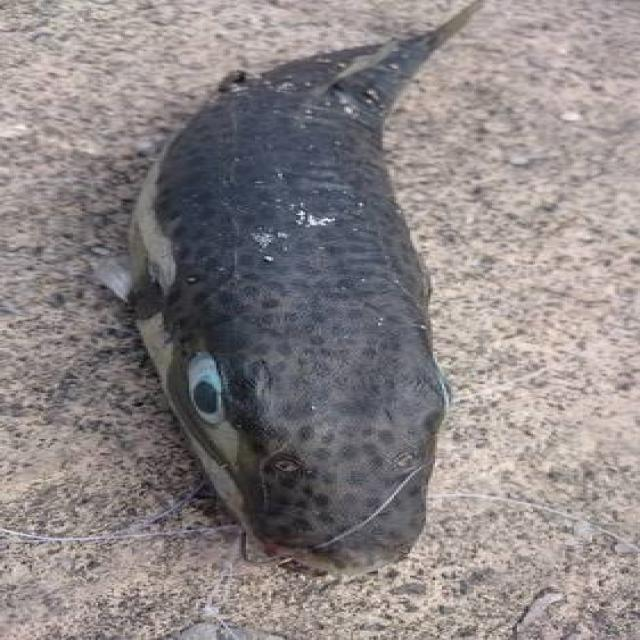Balik: (121, 3, 480, 573)
